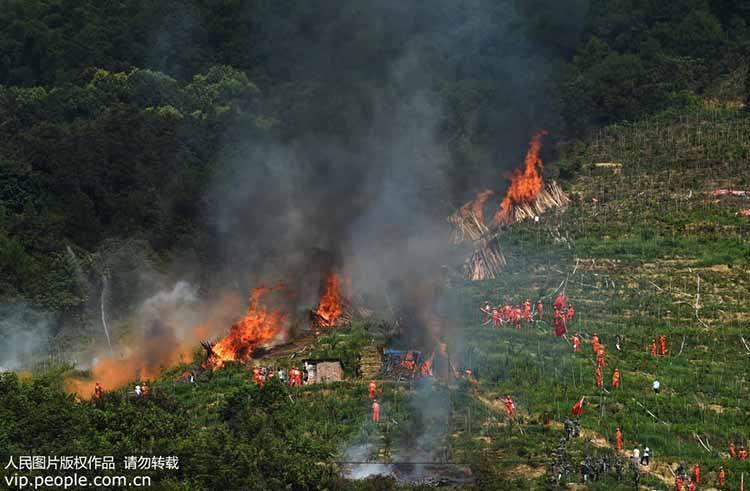fire: (67, 284, 290, 398), (497, 113, 553, 227), (296, 259, 355, 335)
